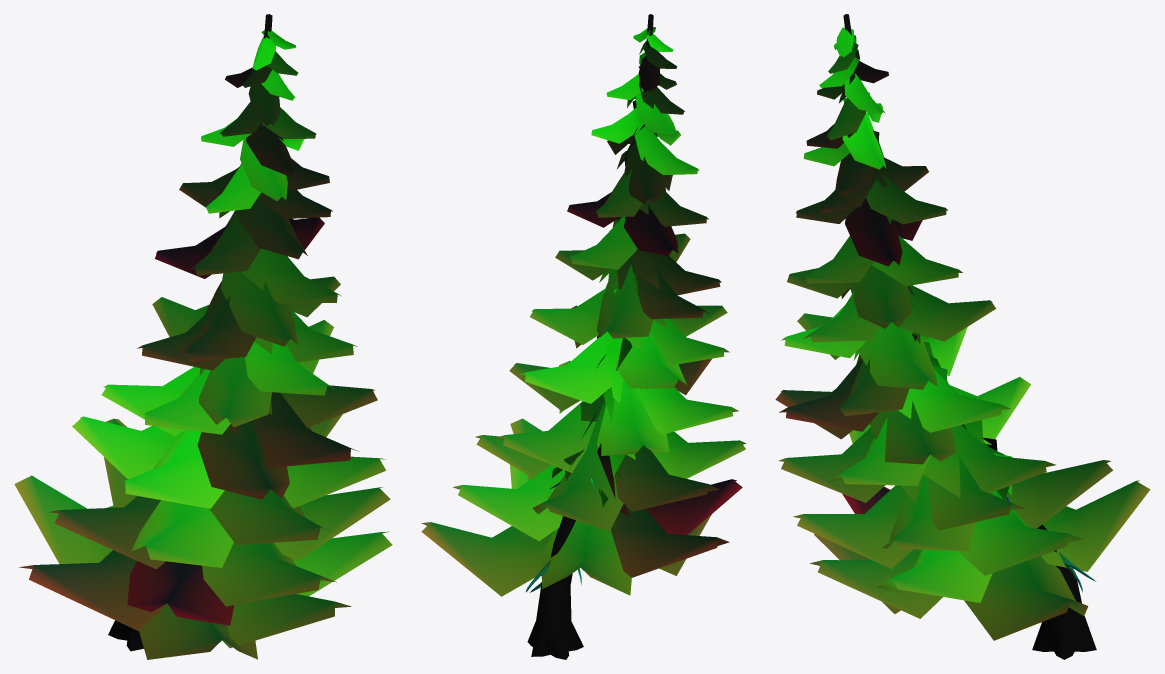
The model's file is M_Pine_6_15.fbx.
The picture shows the model from 3 angles, left to right: view 1: azimuth 30°, elevation 25°; view 2: azimuth 150°, elevation 25°; view 3: azimuth 270°, elevation 25°; orthographic projection. The views are drawn at different scales.
Visible parts, largest first — view 1: Tree_15; view 2: Tree_15; view 3: Tree_15.
Part boxes in pixels (x1,y1,x2,y2): Tree_15: [14, 14, 392, 659]; Tree_15: [421, 14, 746, 659]; Tree_15: [775, 14, 1150, 659].
Size of the model in its own units: 1064 by 2152 by 1158.
